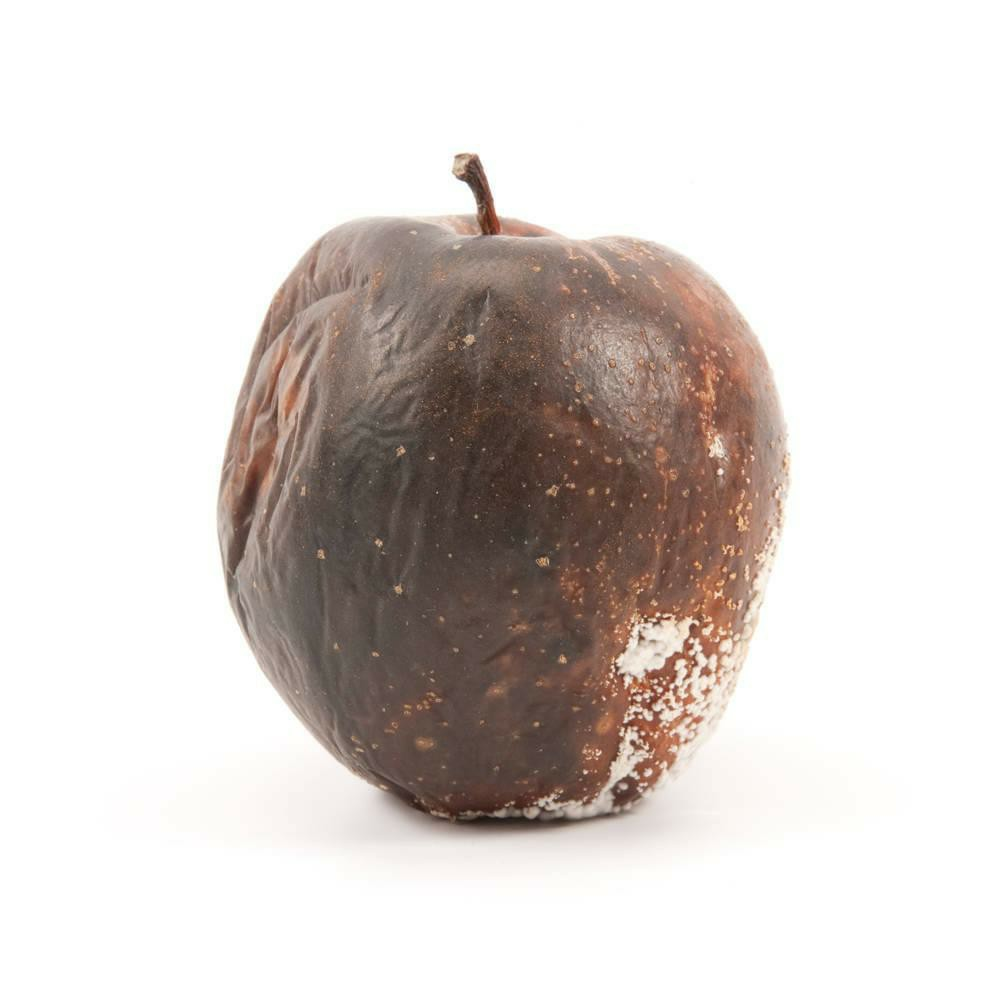rotten_apple: (219, 211, 793, 829)
